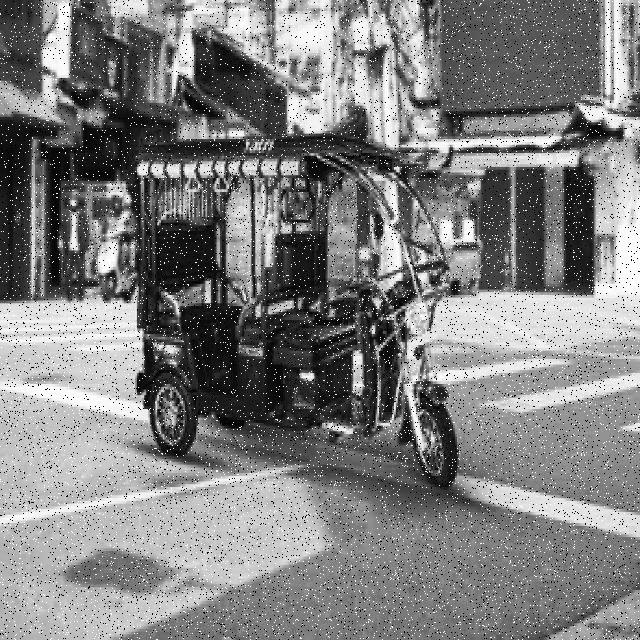Toto: (129, 124, 459, 496)
